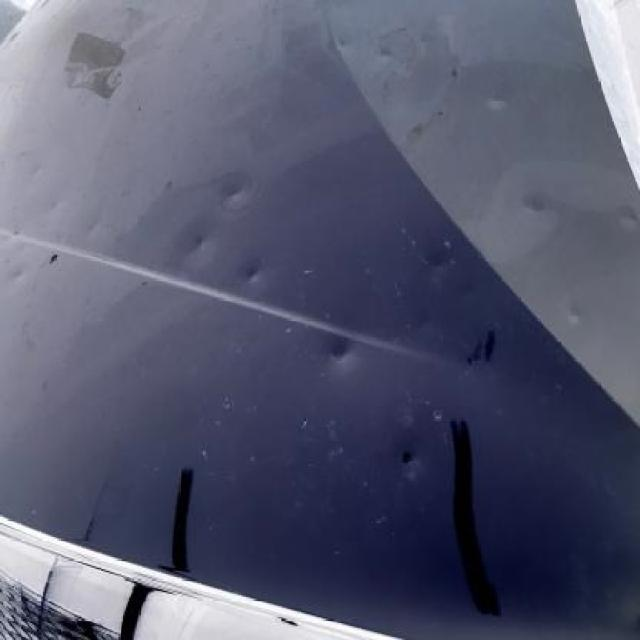dent: (181, 230, 210, 258), (613, 206, 640, 231), (329, 338, 354, 364), (399, 449, 421, 477), (223, 180, 251, 201), (415, 312, 438, 335), (521, 192, 546, 213), (424, 257, 453, 274), (241, 263, 264, 283), (569, 304, 588, 327), (487, 95, 509, 114), (10, 263, 29, 283), (49, 199, 65, 212)
